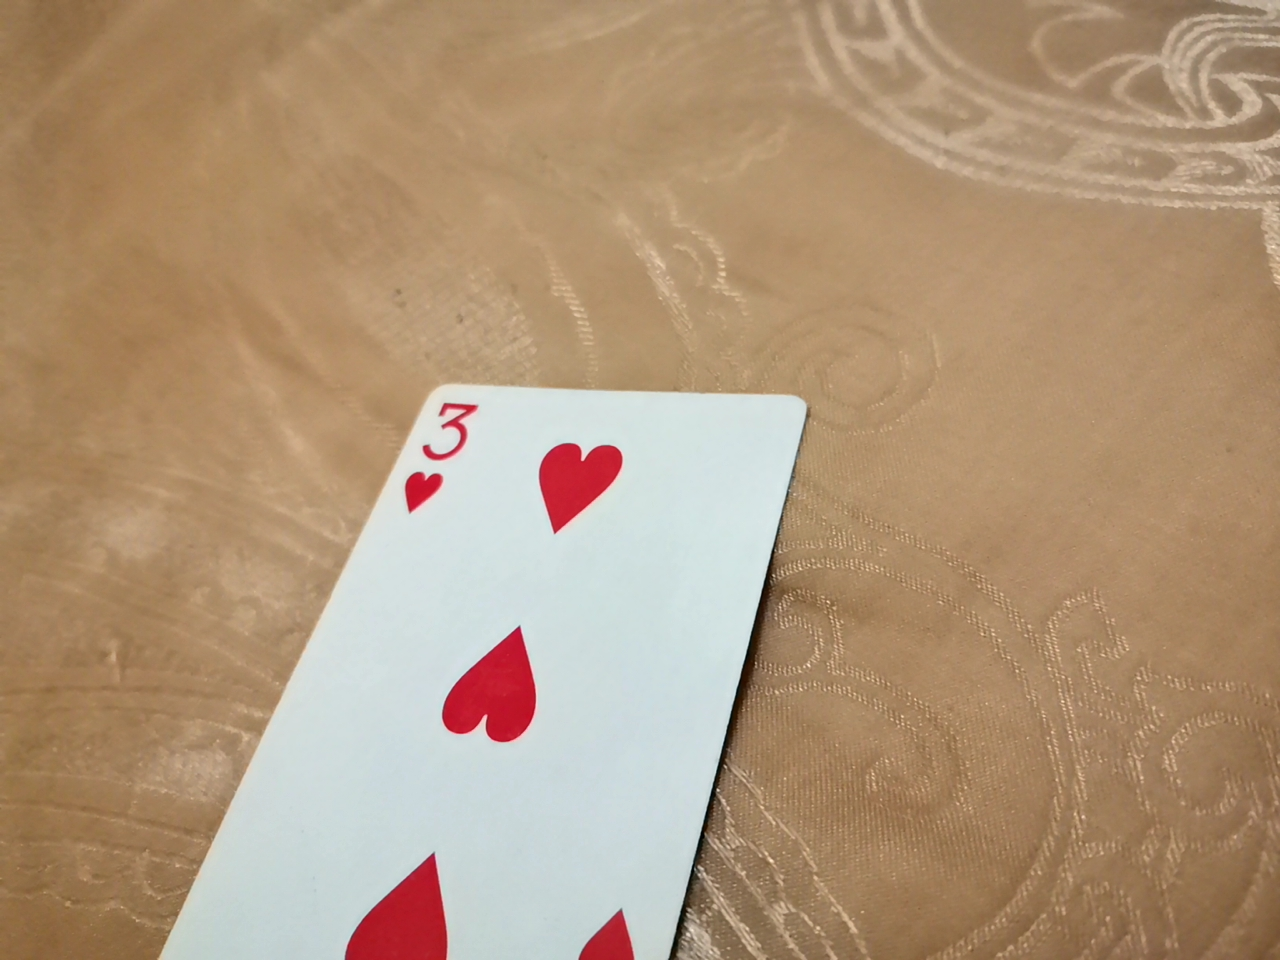hx 3: (191, 282, 818, 940)
